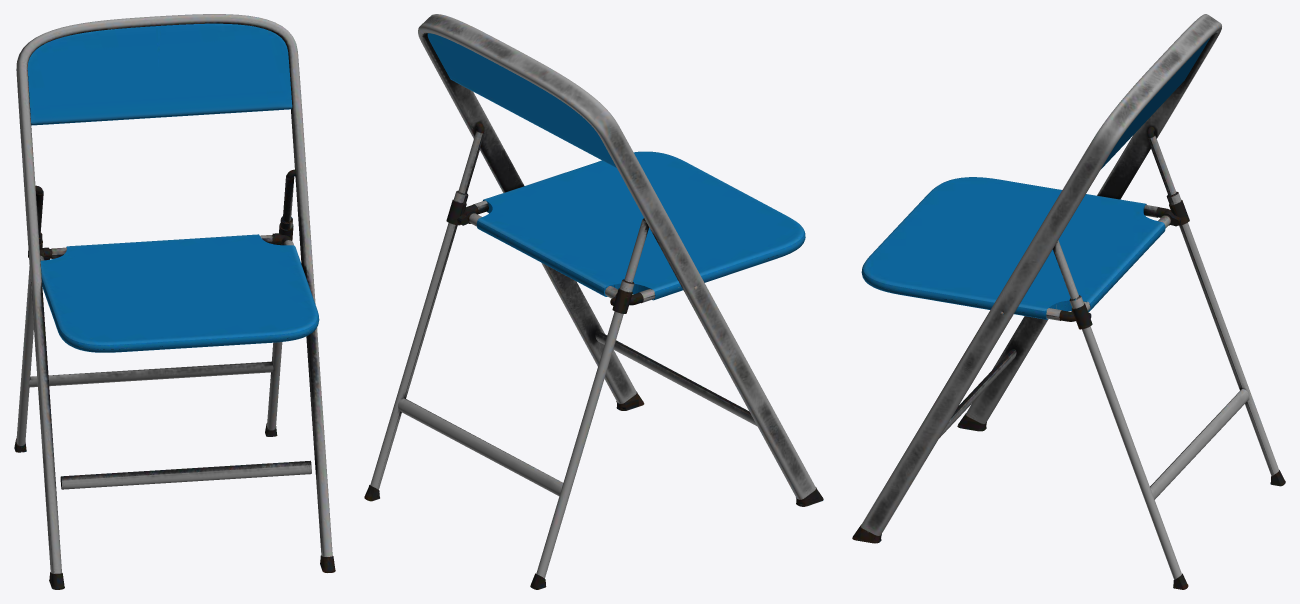
File: chair.glb
The picture shows the model from 3 angles, left to right: view 1: azimuth 30°, elevation 25°; view 2: azimuth 150°, elevation 25°; view 3: azimuth 270°, elevation 25°; orthographic projection. The views are drawn at different scales.
Bounding box in the file's own units: 675 × 888 × 740.
Materials: 1 (1 with a texture image).
